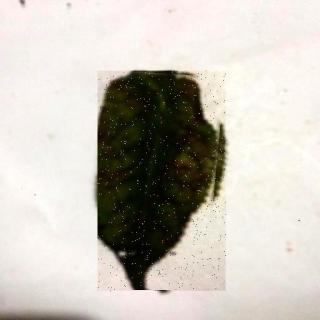Red Leaf Spot: (99, 72, 228, 292)
